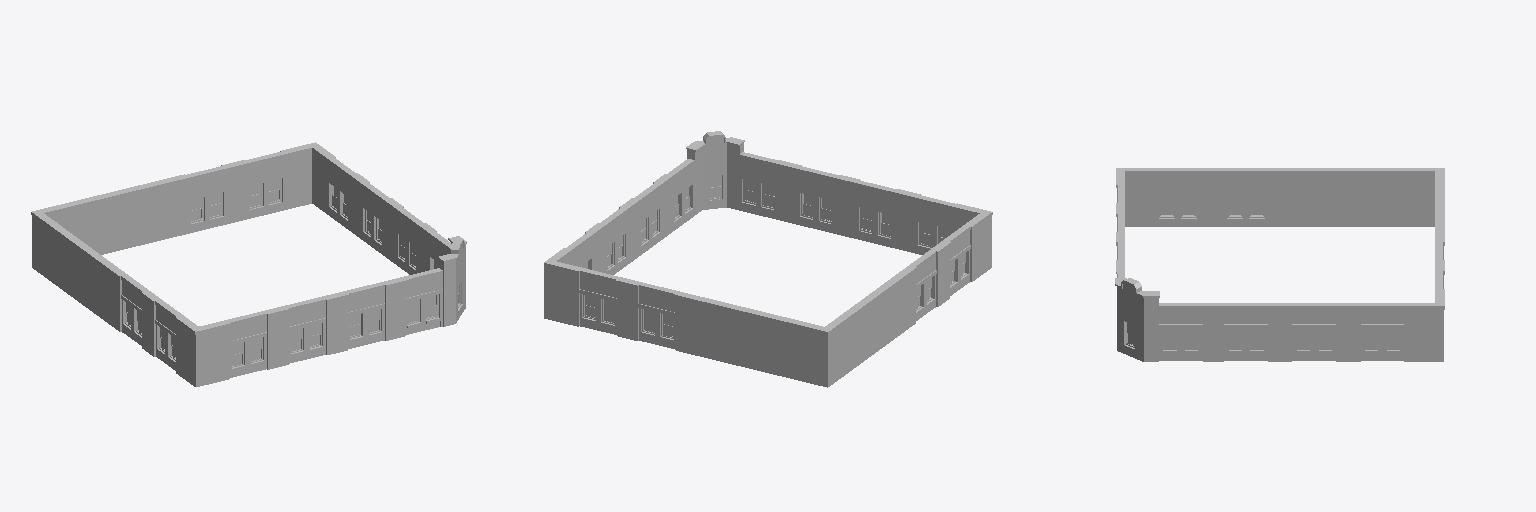
Rendered from Building_LevelModular_Top_LOD0.obj.
3 views of the same model, side by side, from view 1: azimuth 30°, elevation 25°; view 2: azimuth 150°, elevation 25°; view 3: azimuth 270°, elevation 25° (orthographic).
Visible parts, largest first — view 1: Building_LevelModular_Top_LOD0 Building_LevelModular_Top; view 2: Building_LevelModular_Top_LOD0 Building_LevelModular_Top; view 3: Building_LevelModular_Top_LOD0 Building_LevelModular_Top.
Boxes of the visible parts, x1=… form: Building_LevelModular_Top_LOD0 Building_LevelModular_Top: x1=31, y1=142, x2=466, y2=386; Building_LevelModular_Top_LOD0 Building_LevelModular_Top: x1=544, y1=131, x2=992, y2=387; Building_LevelModular_Top_LOD0 Building_LevelModular_Top: x1=1115, y1=168, x2=1444, y2=361.
Bounding box in the file's own units: 2414 × 601 × 2414.